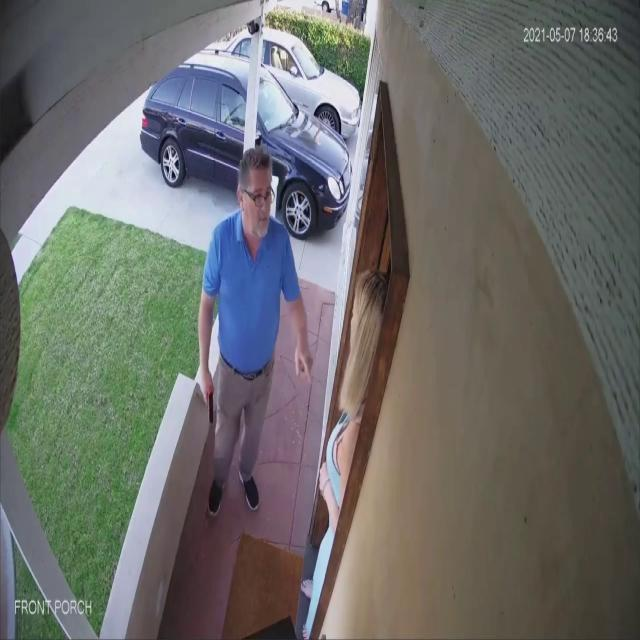weapon: (206, 386, 217, 424)
